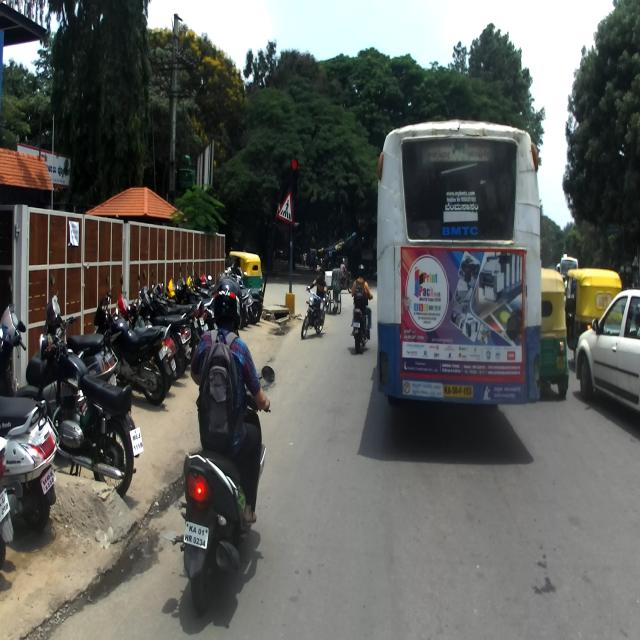bus ahead at: (384, 117, 539, 406)
motorcycle ahead at: (178, 448, 266, 586), (351, 258, 374, 361)
traffic signal ahead at: (287, 144, 300, 197)
